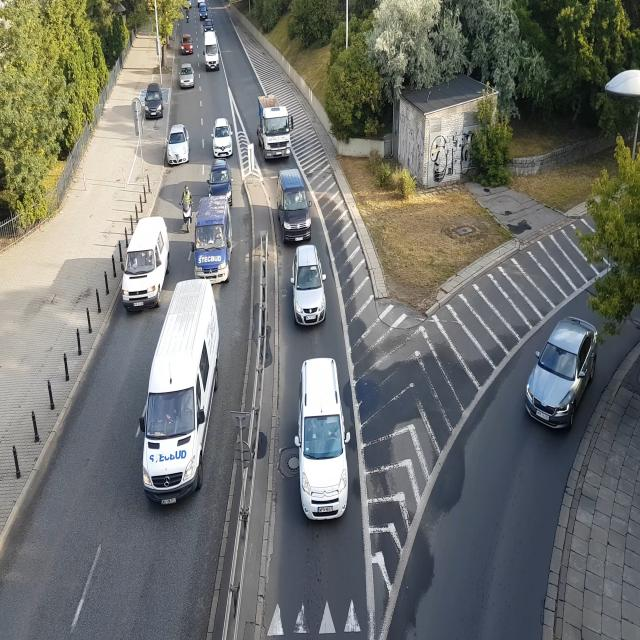car: (140, 278, 224, 522), (290, 359, 352, 522), (524, 302, 601, 432), (120, 202, 168, 315), (289, 244, 329, 331), (278, 167, 314, 244), (208, 108, 237, 163), (209, 156, 235, 206), (166, 119, 192, 169), (203, 31, 223, 75), (144, 82, 164, 120), (178, 61, 198, 91), (179, 31, 194, 59), (199, 3, 208, 20), (204, 20, 214, 32), (183, 0, 193, 7)
motorcycle: (179, 184, 194, 232), (185, 8, 191, 26)
truck: (254, 91, 296, 156)
